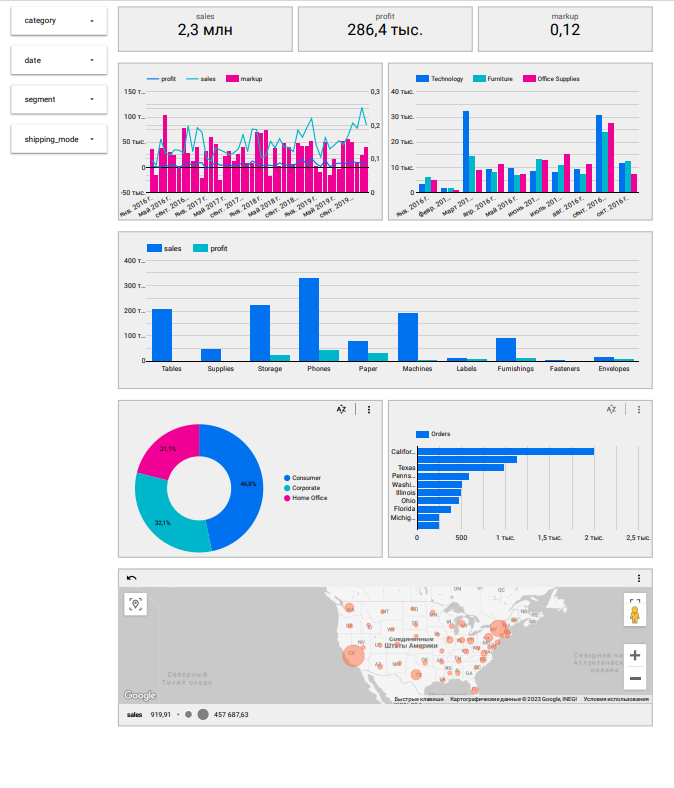

This screenshot's page, from the dashboard's own definition file:
{"tool":"powerbi","page":{"name":"Dashboard","canvas":[1280,720],"ordinal":0},"visuals":[{"type":"lineChart","title":"ДИНАМИКА ПРОДАЖ","fields":{"Category":["Orders2.Order Date.Изменение.Иерархия дат.Год","Orders2.Order Date.Изменение.Иерархия дат.Квартал","Orders2.Order Date.Изменение.Иерархия дат.Месяц","Orders2.Order Date.Изменение.Иерархия дат.День"],"Y":["Orders2.sales_"]},"box":[202.3,132.3,508.7,280.1],"z":0},{"type":"lineChart","title":"ДИНАМИКА НАЦЕНКИ","fields":{"Category":["Orders2.Order Date.Изменение.Иерархия дат.Год","Orders2.Order Date.Изменение.Иерархия дат.Квартал","Orders2.Order Date.Изменение.Иерархия дат.Месяц","Orders2.Order Date.Изменение.Иерархия дат.День"],"Y":["Orders2.Наценка"]},"box":[730.5,132.3,508.7,280.1],"z":1000},{"type":"clusteredColumnChart","title":"ДИНАМИКА ПРОДАЖ ПО КАТЕГОРИЯМ","fields":{"Y":["Orders2.sales_"],"Series":["Orders2.Category"],"Category":["Orders2.Order Date.Изменение.Иерархия дат.Год","Orders2.Order Date.Изменение.Иерархия дат.Квартал","Orders2.Order Date.Изменение.Иерархия дат.Месяц","Orders2.Order Date.Изменение.Иерархия дат.День"]},"box":[202.3,429.9,1036.8,280.1],"z":2000},{"type":"card","fields":{"Values":["Orders2.profit_"]},"box":[906.5,19.5,332.6,97.3],"z":3000},{"type":"card","fields":{"Values":["Orders2.sales_"]},"box":[554.4,19.5,332.6,97.3],"z":4000},{"type":"card","fields":{"Values":["Orders2.Наценка"]},"box":[202.3,19.5,332.6,97.3],"z":5000},{"type":"slicer","title":"Категория","fields":{"Values":["Orders2.Category"]},"box":[0,19.5,185.8,127.4],"z":6000},{"type":"slicer","title":"Дата","fields":{"Values":["Orders2.Order Date.Изменение.Иерархия дат.Год","Orders2.Order Date.Изменение.Иерархия дат.Квартал","Orders2.Order Date.Изменение.Иерархия дат.Месяц","Orders2.Order Date.Изменение.Иерархия дат.День"]},"box":[0,144.9,185.8,127.4],"z":7000},{"type":"slicer","title":"Менеджер","fields":{"Values":["People2.Person"]},"box":[0,285,185.8,144.9],"z":7001},{"type":"slicer","title":"Сегмент","fields":{"Values":["Orders2.Segment"]},"box":[0,442.6,185.8,127.4],"z":7002},{"type":"slicer","title":"Тип доставки","fields":{"Values":["Orders2.Ship Mode"]},"box":[0,570,185.8,127.4],"z":7003}]}

Visuals, with their boxes on the page's 1280x720 design canvas (x1, y1, x2, y2). These are canvas units, not pixel positions in the 674x788 screenshot, which may show the page scaled, cropped or inside an application window:
"ДИНАМИКА ПРОДАЖ" lineChart: 202 132 711 412
"ДИНАМИКА НАЦЕНКИ" lineChart: 730 132 1239 412
"ДИНАМИКА ПРОДАЖ ПО КАТЕГОРИЯМ" clusteredColumnChart: 202 430 1239 710
card - Orders2.profit_: 906 20 1239 117
card - Orders2.sales_: 554 20 887 117
card - Orders2.Наценка: 202 20 535 117
"Категория" slicer: 0 20 186 147
"Дата" slicer: 0 145 186 272
"Менеджер" slicer: 0 285 186 430
"Сегмент" slicer: 0 443 186 570
"Тип доставки" slicer: 0 570 186 697
